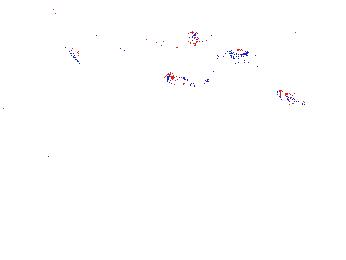X-ray fish: (28, 132, 71, 171)
red belly glassfish: (274, 87, 316, 112), (162, 70, 207, 89)
redtail glassfish: (100, 33, 186, 62), (186, 29, 244, 65), (23, 40, 88, 67), (1, 2, 64, 25)
